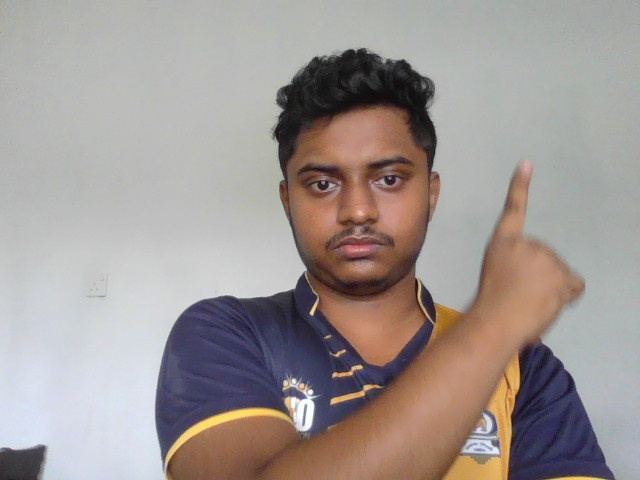Me: (473, 159, 588, 350)
